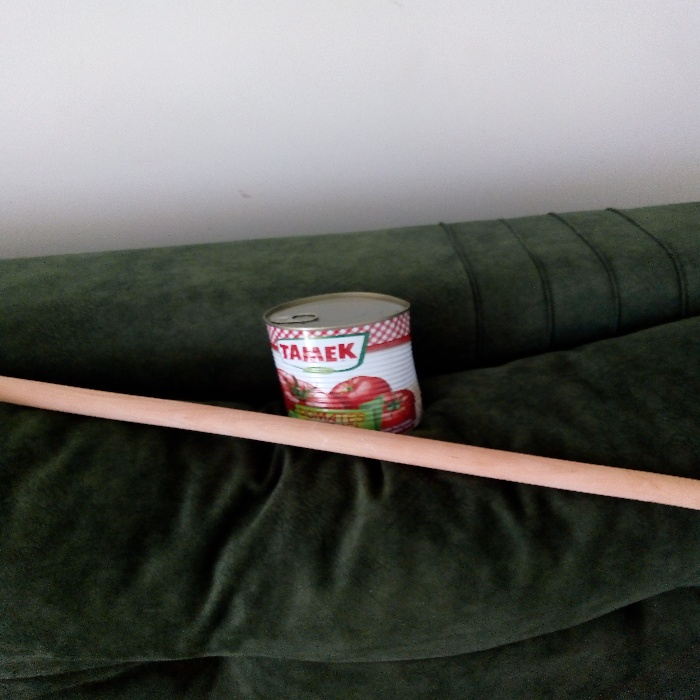salca: (262, 276, 440, 455)
